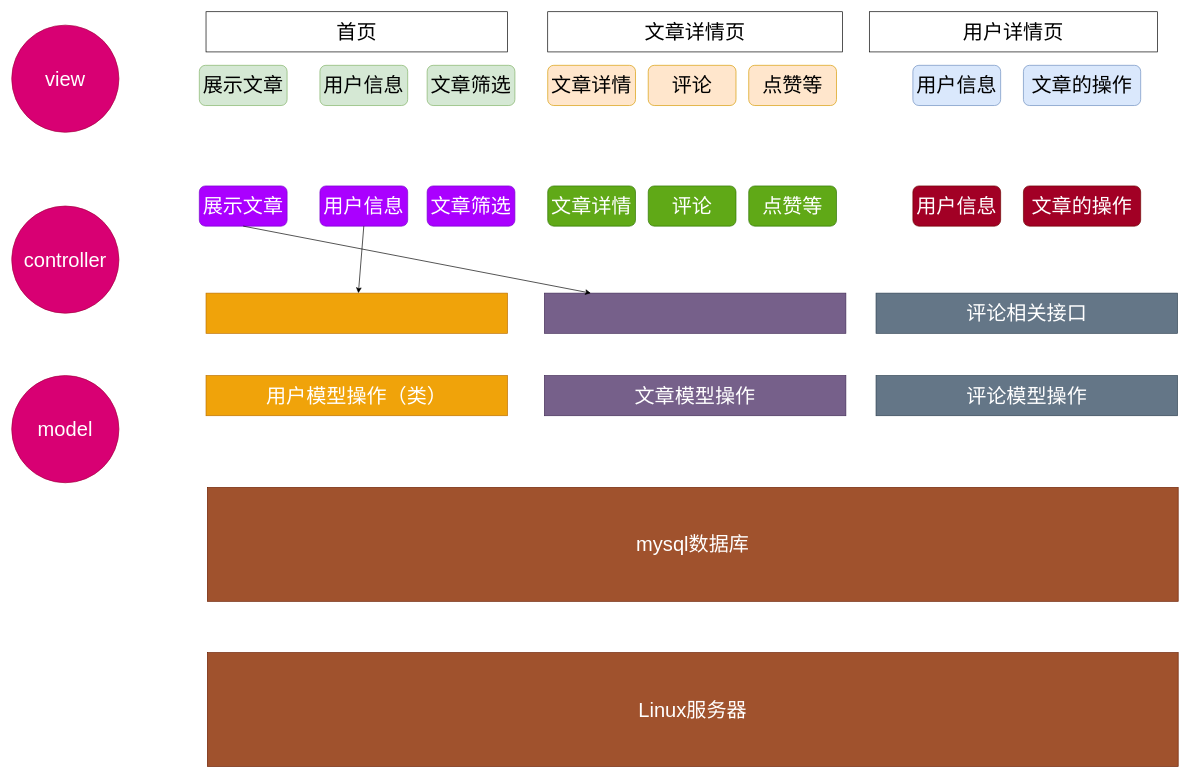
Image size: 1190x779. Some labels were removed from this diagram. The centre of each missing label's shape, as x and y in pixels:
文章相关接口: (695,312)
用户相关接口: (356,312)
